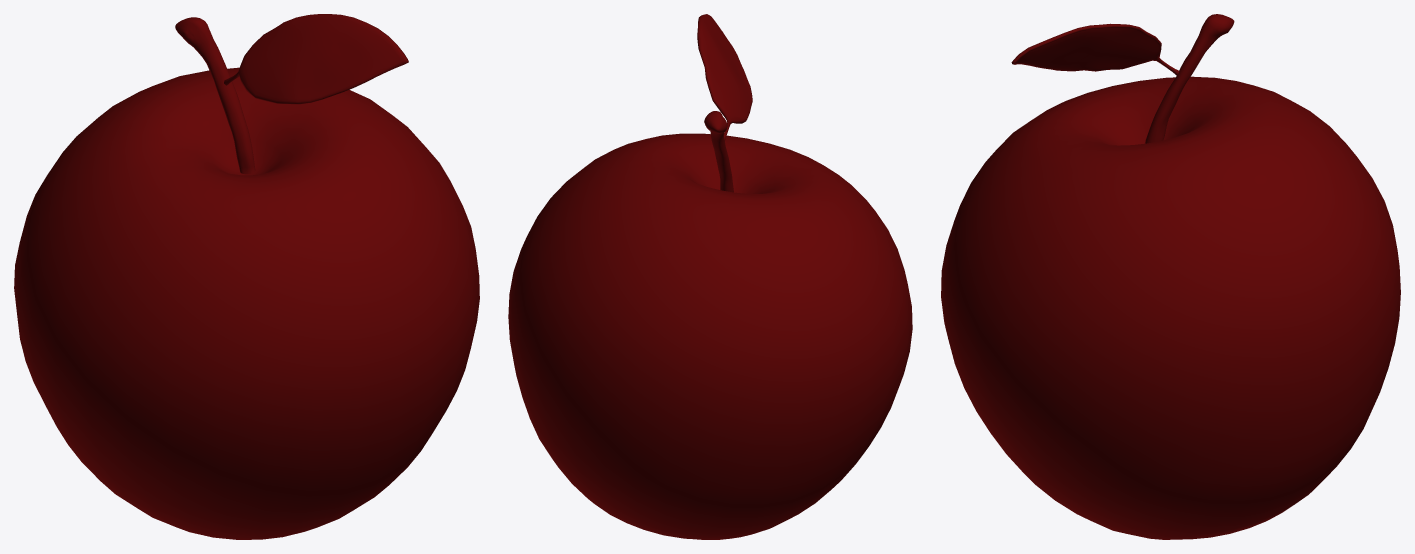
Rendered from Apple.fbx.
3 views of the same model, side by side, from view 1: azimuth 30°, elevation 25°; view 2: azimuth 150°, elevation 25°; view 3: azimuth 270°, elevation 25° (orthographic). The views are drawn at different scales.
Parts seen in each view (by area): view 1: polySurface29; view 2: polySurface29; view 3: polySurface29.
Part boxes in pixels (left/top/right/bottom): polySurface29: left=14, top=14, right=479, bottom=539; polySurface29: left=508, top=14, right=912, bottom=539; polySurface29: left=941, top=14, right=1400, bottom=539.
Size of the model in its own units: 0.7237 by 0.8969 by 0.7245.
